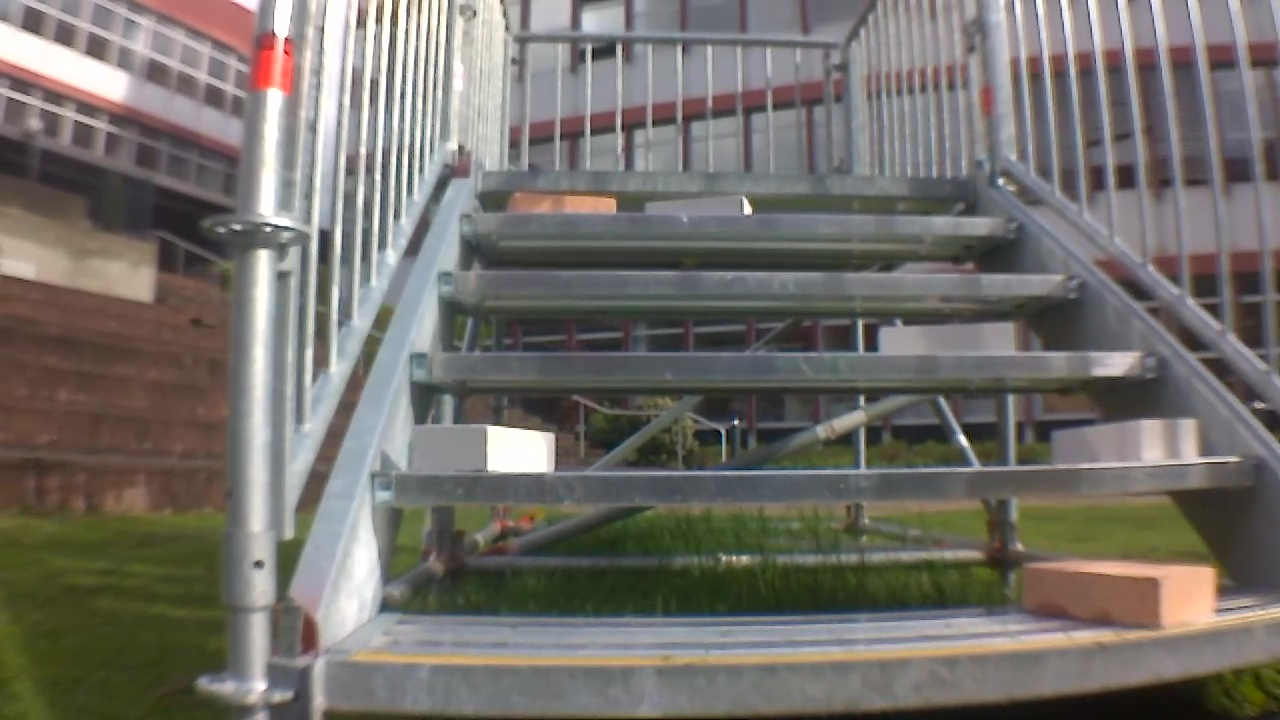brick: (1021, 560, 1214, 626), (414, 425, 555, 471), (1052, 418, 1197, 462), (879, 322, 1012, 354), (507, 193, 614, 213), (646, 196, 750, 214)
edge: (327, 613, 1280, 715), (376, 460, 1261, 502), (411, 351, 1162, 380), (439, 270, 1082, 294), (476, 170, 974, 196), (461, 213, 1019, 236)
stairs: (211, 2, 1280, 720)
steps: (319, 162, 1280, 717)
